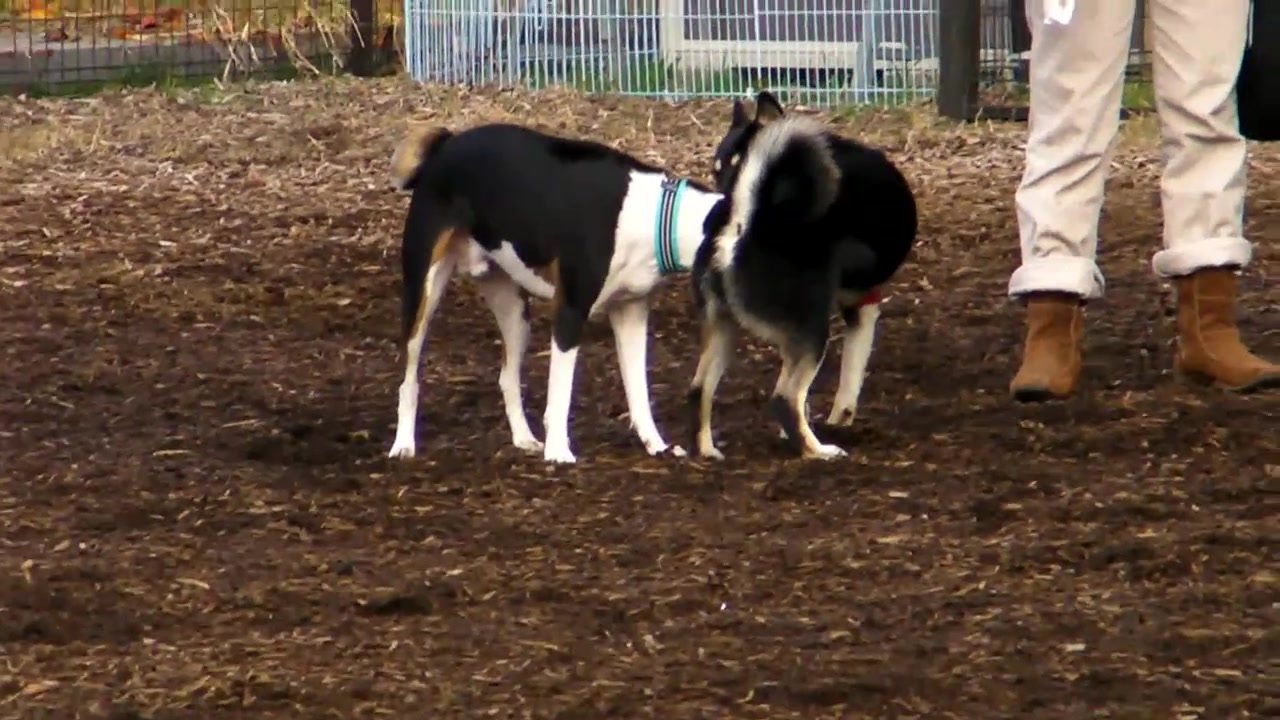dog: (692, 96, 924, 469)
